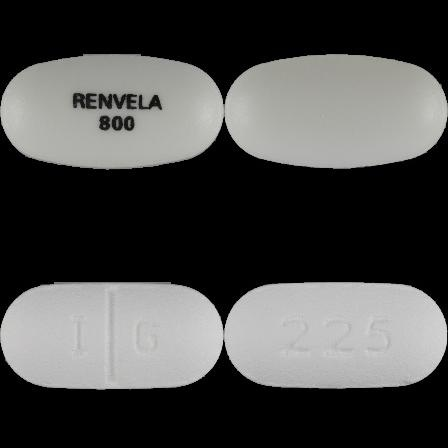0179-0043: (0, 0, 224, 224)
